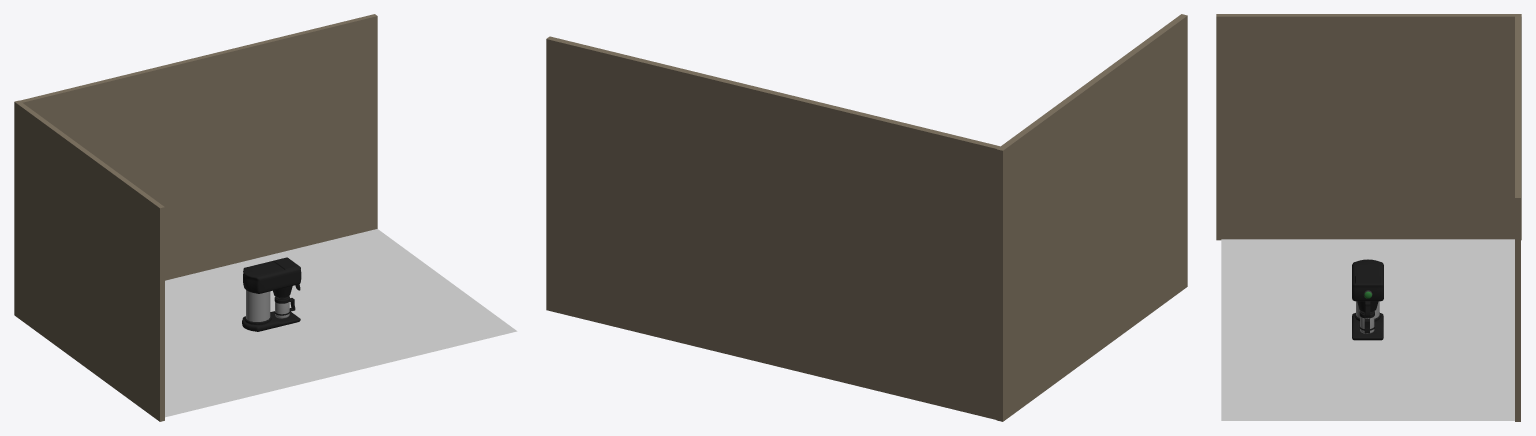
Rendered from Coffee Maker.FBX.
3 views of the same model, side by side, from view 1: azimuth 30°, elevation 25°; view 2: azimuth 150°, elevation 25°; view 3: azimuth 270°, elevation 25° (orthographic). The views are drawn at different scales.
Parts seen in each view (by area): view 1: Box03, Plane01, Box05, Top, Water Container, Base; view 2: Box03, Box05; view 3: Box05, Plane01, Box03, Top, Base.
Boxes of the visible parts, x1,y1,x2,y2 form: Box03: (18, 14, 377, 280); Plane01: (165, 229, 517, 417); Box05: (14, 100, 164, 421); Top: (243, 257, 301, 293); Water Container: (246, 290, 270, 321); Base: (242, 311, 300, 331); Box03: (546, 36, 1001, 419); Box05: (996, 14, 1187, 421); Box05: (1216, 14, 1521, 240); Plane01: (1221, 239, 1514, 420); Box03: (1515, 15, 1520, 421); Top: (1352, 259, 1383, 301); Base: (1352, 313, 1383, 340).
Size of the model in its own units: 576 by 403 by 326.
